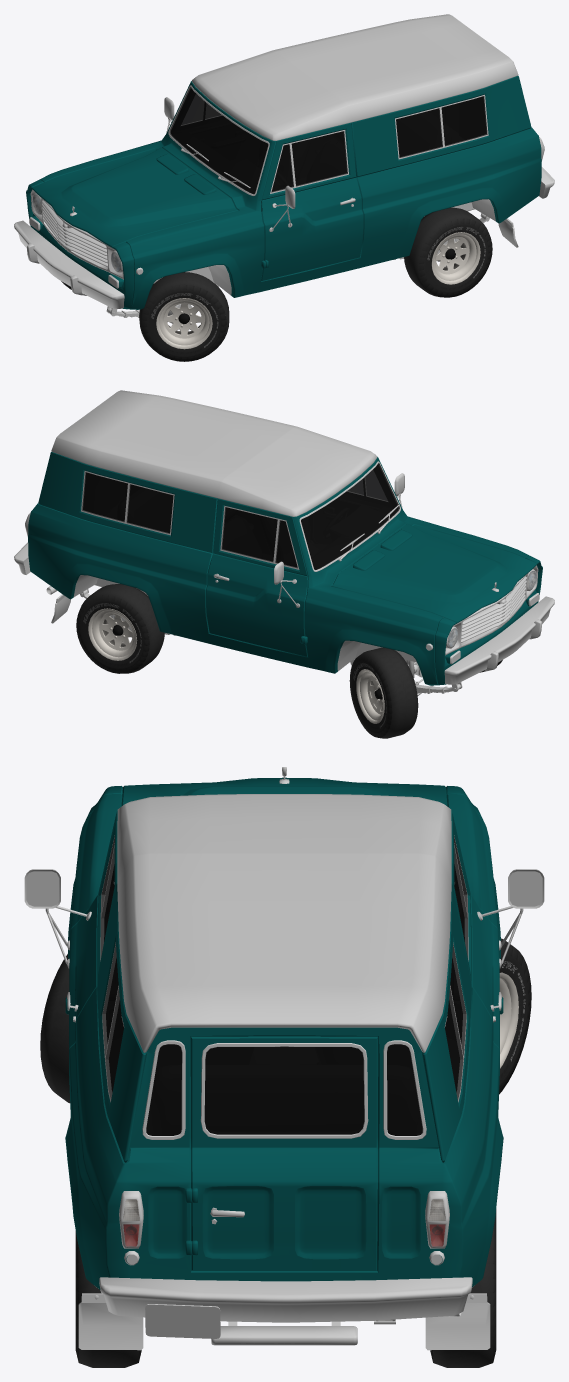
The model's file is suv.fbx.
The picture shows the model from 3 angles, top to bottom: view 1: azimuth 30°, elevation 25°; view 2: azimuth 150°, elevation 25°; view 3: azimuth 270°, elevation 25°; orthographic projection. The views are drawn at different scales.
Visible parts, largest first — view 1: Body, Roof, Hood, Door_Left, Wheel_FL, Wheel_RL, Windshield, Seats, Bodyglass, Door_Glass_FL, Bumper_Front, Grill (+9 smaller); view 2: Body, Roof, Hood, Door_Right, Wheel_RR, Windshield, Wheel_FR, Seats, Bodyglass, Door_Glass_FR, Bumper_Front, Grill (+10 smaller); view 3: Roof, Body, rear_door, Seats, Bumper_rear, rear_door_glass, Bodyglass, Mudflaps, Hood, Body_trim, Door_Left, Door_Right (+14 smaller).
Boxes of the visible parts, left/top/right/bottom form: Body: left=40, top=76, right=541, bottom=309; Roof: left=192, top=14, right=518, bottom=140; Hood: left=32, top=147, right=238, bottom=247; Door_Left: left=261, top=122, right=363, bottom=280; Wheel_FL: left=139, top=272, right=229, bottom=361; Wheel_RL: left=404, top=207, right=492, bottom=297; Windshield: left=169, top=87, right=268, bottom=194; Seats: left=256, top=111, right=451, bottom=187; Bodyglass: left=396, top=96, right=487, bottom=157; Door_Glass_FL: left=271, top=131, right=347, bottom=192; Bumper_Front: left=14, top=220, right=124, bottom=308; Grill: left=29, top=189, right=123, bottom=288; Body: left=28, top=452, right=528, bottom=685; Roof: left=51, top=390, right=377, bottom=516; Hood: left=331, top=523, right=536, bottom=623; Door_Right: left=206, top=498, right=307, bottom=656; Wheel_RR: left=76, top=584, right=164, bottom=673; Windshield: left=301, top=463, right=399, bottom=569; Wheel_FR: left=349, top=647, right=418, bottom=738; Seats: left=117, top=487, right=328, bottom=566; Bodyglass: left=82, top=472, right=173, bottom=533; Door_Glass_FR: left=221, top=507, right=297, bottom=568; Bumper_Front: left=444, top=596, right=554, bottom=684; Grill: left=445, top=565, right=539, bottom=664; Roof: left=117, top=794, right=451, bottom=1052; Body: left=65, top=794, right=503, bottom=1289; rear_door: left=190, top=1036, right=378, bottom=1270; Seats: left=146, top=1044, right=422, bottom=1135; Bumper_rear: left=99, top=1277, right=472, bottom=1338; rear_door_glass: left=204, top=1046, right=364, bottom=1134; Bodyglass: left=102, top=944, right=466, bottom=1135; Mudflaps: left=78, top=1293, right=490, bottom=1350; Hood: left=121, top=777, right=447, bottom=805; Body_trim: left=102, top=882, right=466, bottom=1265; Door_Left: left=65, top=811, right=117, bottom=1075; Door_Right: left=451, top=811, right=503, bottom=1075.
Bounding box in the file's own units: 181 × 87.05 × 76.58.
